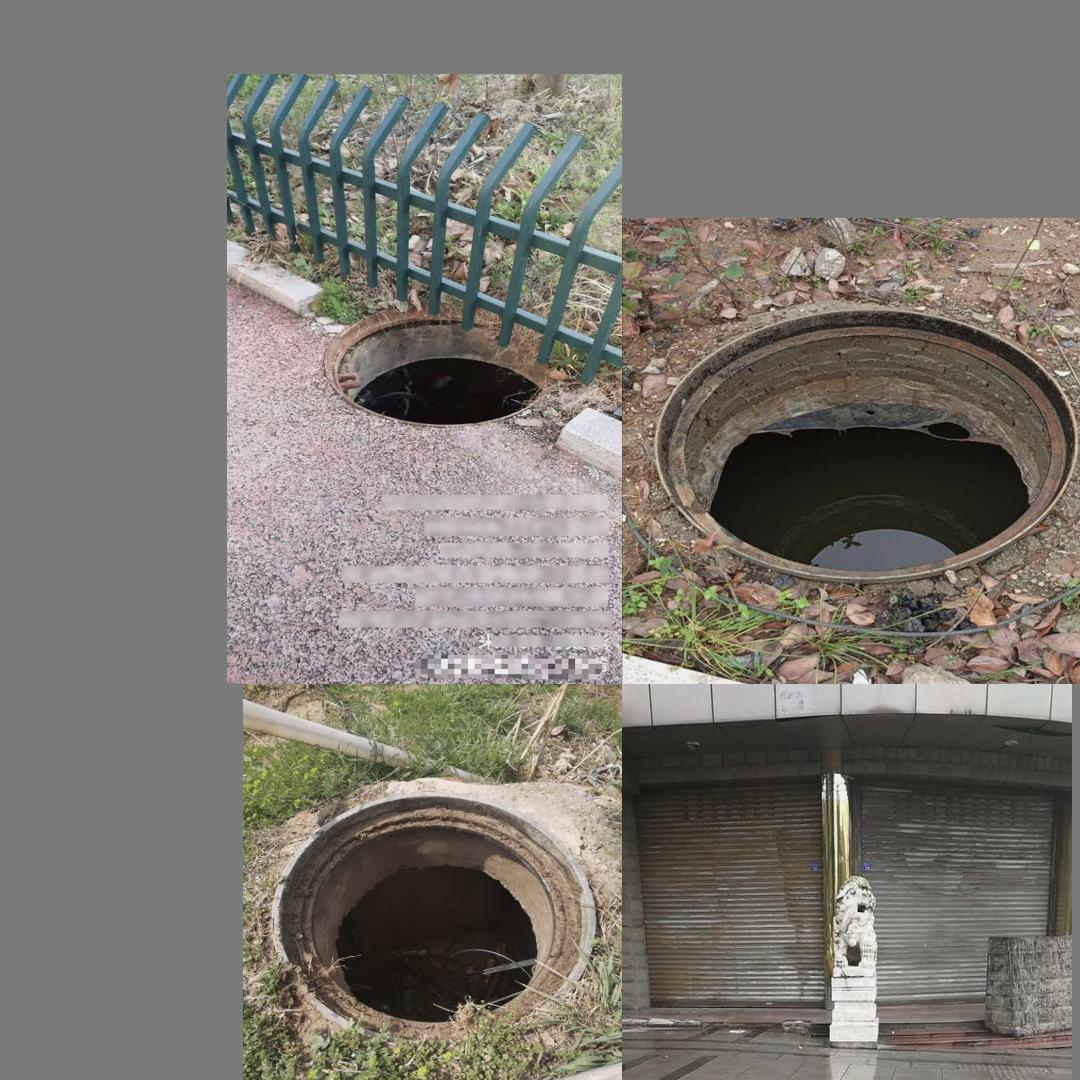lose: (645, 298, 1080, 586), (270, 789, 597, 1052), (298, 300, 582, 434)
